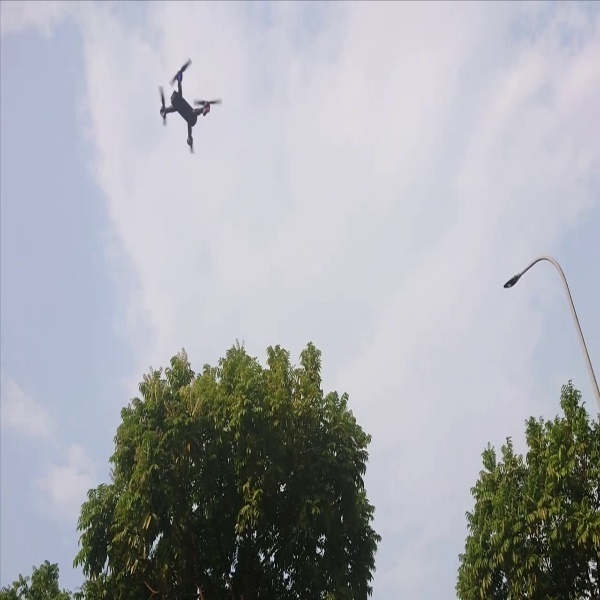drone: (147, 57, 230, 158)
